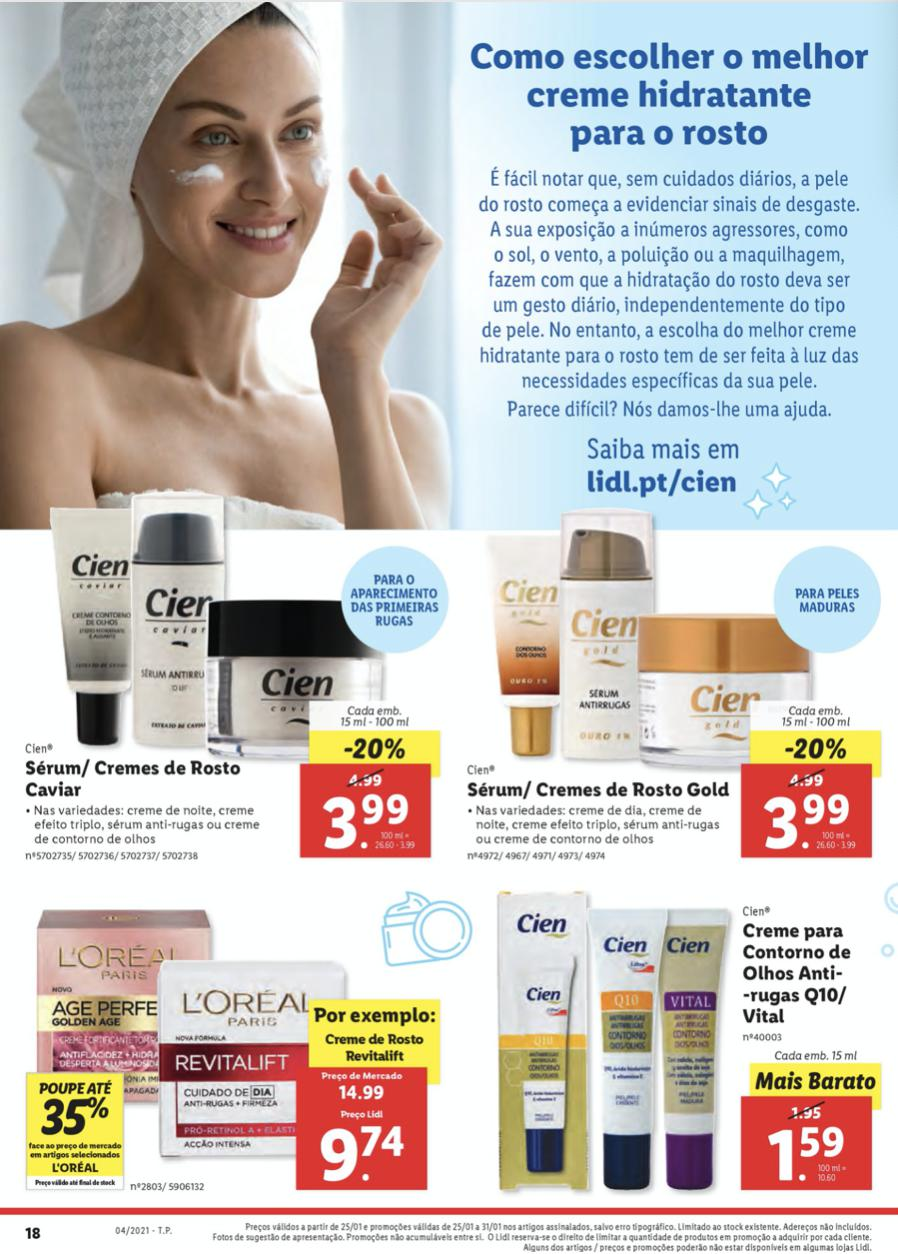name: (739, 920, 859, 1028), (24, 754, 245, 801), (466, 776, 736, 806)
price: (314, 792, 420, 859), (763, 790, 858, 857), (319, 1121, 406, 1184), (766, 1126, 850, 1188)
product: (8, 492, 470, 878), (464, 506, 884, 873), (17, 890, 474, 1199), (483, 878, 892, 1198)
promotion: (36, 1098, 113, 1142), (780, 735, 852, 765), (341, 735, 409, 763)
